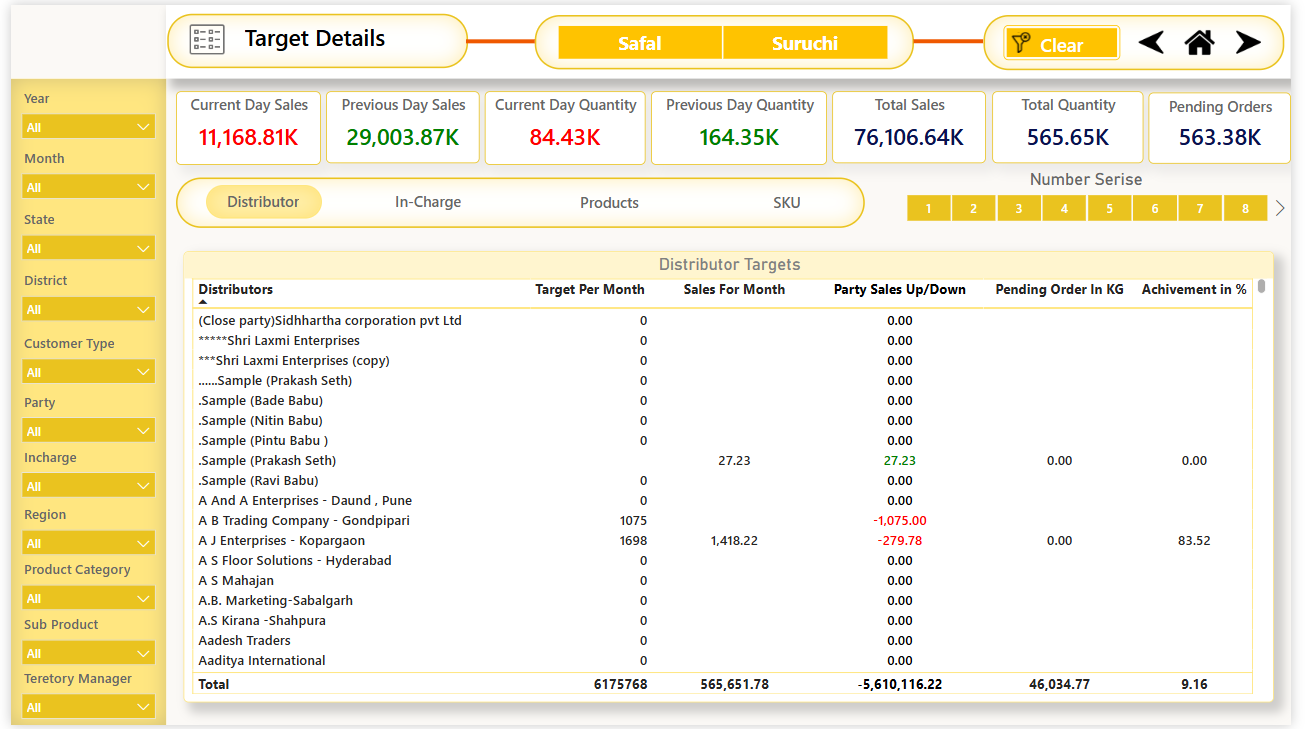

This screenshot's page, from the dashboard's own definition file:
{"tool":"powerbi","page":{"name":"Target Details","canvas":[1280,720],"ordinal":1},"visuals":[{"type":"shape","box":[0,73.8,155,646.2],"z":0},{"type":"actionButton","box":[189.4,176.3,126.7,39.8],"z":0,"group":"g2"},{"type":"shape","box":[195.4,179.9,115.8,33.8],"z":0,"group":"g1"},{"type":"shape","box":[155,0,1125,73.8],"z":1000},{"type":"actionButton","box":[354.7,176.3,126.7,39.8],"z":1000,"group":"g2"},{"type":"shape","box":[155.6,8.4,300.4,54.3],"z":2000},{"type":"actionButton","box":[535.6,177.5,126.7,39.8],"z":2000,"group":"g2"},{"type":"shape","box":[523.6,9.7,378.8,54.3],"z":3000},{"type":"actionButton","box":[713,177.5,126.7,39.8],"z":3000,"group":"g2"},{"type":"shape","box":[454.8,21.7,68.8,30.2],"z":4000},{"type":"actionButton","box":[165,12.5,277.5,45],"z":6000},{"type":"slicer","fields":{"Values":["Company.Company"]},"box":[521.2,13.3,378.8,43.4],"z":7000},{"type":"slicer","fields":{"Values":["Fiscal Year.Year"]},"box":[0,78.4,154.4,59.1],"z":8000},{"type":"slicer","fields":{"Values":["Fiscal Year.Month"]},"box":[0,138.7,154.4,59.1],"z":9000},{"type":"slicer","fields":{"Values":["State.x_state"]},"box":[0,200.3,154.4,59.1],"z":10000},{"type":"slicer","fields":{"Values":["District.x_district"]},"box":[0,261.8,154.4,59.1],"z":11000},{"type":"slicer","fields":{"Values":["Customer Type.xx_customer_type"]},"box":[0,323.3,154.4,59.1],"z":12000},{"type":"slicer","fields":{"Values":["Party.party_code"]},"box":[0,382.4,154.4,59.1],"z":13000},{"type":"slicer","fields":{"Values":["Incharge.incharge"]},"box":[0,437.9,154.4,59.1],"z":14000},{"type":"slicer","fields":{"Values":["Region.x_region"]},"box":[0,494.6,154.4,59.1],"z":15000},{"type":"slicer","fields":{"Values":["Product Category.Product Category"]},"box":[0,550.1,154.4,59.1],"z":16000},{"type":"slicer","fields":{"Values":["Sub Product.x_sub_product_category"]},"box":[0,604.4,154.4,59.1],"z":17000},{"type":"slicer","fields":{"Values":["Teretory Manager.teretory_manager"]},"box":[0,658.7,154.4,59.1],"z":18000},{"type":"card","title":"Current Day Sales","fields":{"Values":["DAX.Current Day Sales"]},"box":[165.3,85.7,144.8,73.6],"z":19000},{"type":"card","title":"Previous Day Sales","fields":{"Values":["DAX.Previous Day Sales"]},"box":[314.9,86.9,153.2,72.4],"z":20000},{"type":"card","title":"Current Day Quantity","fields":{"Values":["DAX.Current Day Quantity"]},"box":[474.1,85.7,160.5,73.6],"z":21000},{"type":"card","title":"Previous Day Quantity","fields":{"Values":["DAX.Previous Day Quantity"]},"box":[639.4,85.7,176.1,73.6],"z":22000},{"type":"card","title":"Total Sales","fields":{"Values":["DAX.Total Sales"]},"box":[821.6,86.9,153.2,72.4],"z":23000},{"type":"card","title":"Total Quantity","fields":{"Values":["DAX.Total Quantity"]},"box":[980.8,86.9,150.8,72.4],"z":24000},{"type":"card","title":"Pending Orders","fields":{"Values":["Sum(Safal & Suruchi Pending Order.Ordered Qty. in KG)"]},"box":[1137.7,88.1,142.4,71.2],"z":25000},{"type":"shape","box":[972.4,9.7,300.4,55.5],"z":26000},{"type":"shape","box":[902.4,21.7,70,30.2],"z":27000},{"type":"image","box":[1166.6,16.9,44.6,39.8],"z":28000},{"type":"image","box":[1120.8,20.5,37.4,35],"z":29000},{"type":"image","box":[1218.5,20.5,37.4,35],"z":30000},{"type":"actionButton","box":[992.9,20.5,117,35],"z":31000},{"type":"shape","box":[165.2,172.7,688.9,50.7],"z":32000},{"type":"group","id":"g1","title":"Shape 1","box":[195.4,179.9,640.6,35],"z":33000},{"type":"group","id":"g2","title":"Btn1","box":[189.4,176.3,650.3,41],"z":34000},{"type":"tableEx","title":"Distributor Targets","fields":{"Values":["Party.party_code","DAX.Party Amount Adjusted","Sum(Safal & Suruchi 7 Days Sales.x_total_qty_kg)","DAX.Sales Up/Down","Sum(Safal & Suruchi Pending Order.Balance Qty. in KG)","DAX.Sales Achivement in %"]},"box":[172.5,246.1,1090.6,451.2],"z":35000},{"type":"slicer","title":"Number Serise","fields":{"Values":["Series.Value"]},"box":[869.8,164.1,410.2,59.1],"z":39000},{"type":"image","box":[172.9,10,47.1,48.6],"z":40000}]}

Visuals, with their boxes in screenshot pixels (x1, y1, x2, y2), scaled from the page's 1280x720 canvas onto the 1305x729 screenshot:
shape: box=[0, 75, 158, 728]
actionButton: box=[193, 179, 322, 219]
shape: box=[199, 182, 317, 216]
shape: box=[158, 0, 1304, 75]
actionButton: box=[362, 179, 491, 219]
shape: box=[159, 9, 465, 63]
actionButton: box=[546, 180, 675, 220]
shape: box=[534, 10, 920, 65]
actionButton: box=[727, 180, 856, 220]
shape: box=[464, 22, 534, 53]
actionButton: box=[168, 13, 451, 58]
slicer - Company.Company: box=[531, 13, 918, 57]
slicer - Fiscal Year.Year: box=[0, 79, 157, 139]
slicer - Fiscal Year.Month: box=[0, 140, 157, 200]
slicer - State.x_state: box=[0, 203, 157, 263]
slicer - District.x_district: box=[0, 265, 157, 325]
slicer - Customer Type.xx_customer_type: box=[0, 327, 157, 387]
slicer - Party.party_code: box=[0, 387, 157, 447]
slicer - Incharge.incharge: box=[0, 443, 157, 503]
slicer - Region.x_region: box=[0, 501, 157, 561]
slicer - Product Category.Product Category: box=[0, 557, 157, 617]
slicer - Sub Product.x_sub_product_category: box=[0, 612, 157, 672]
slicer - Teretory Manager.teretory_manager: box=[0, 667, 157, 727]
"Current Day Sales" card: box=[169, 87, 316, 161]
"Previous Day Sales" card: box=[321, 88, 477, 161]
"Current Day Quantity" card: box=[483, 87, 647, 161]
"Previous Day Quantity" card: box=[652, 87, 831, 161]
"Total Sales" card: box=[838, 88, 994, 161]
"Total Quantity" card: box=[1000, 88, 1154, 161]
"Pending Orders" card: box=[1160, 89, 1304, 161]
shape: box=[991, 10, 1298, 66]
shape: box=[920, 22, 991, 53]
image: box=[1189, 17, 1235, 57]
image: box=[1143, 21, 1181, 56]
image: box=[1242, 21, 1280, 56]
actionButton: box=[1012, 21, 1132, 56]
shape: box=[168, 175, 871, 226]
"Shape 1" group: box=[199, 182, 852, 218]
"Btn1" group: box=[193, 179, 856, 220]
"Distributor Targets" tableEx: box=[176, 249, 1288, 706]
"Number Serise" slicer: box=[887, 166, 1304, 226]
image: box=[176, 10, 224, 59]
